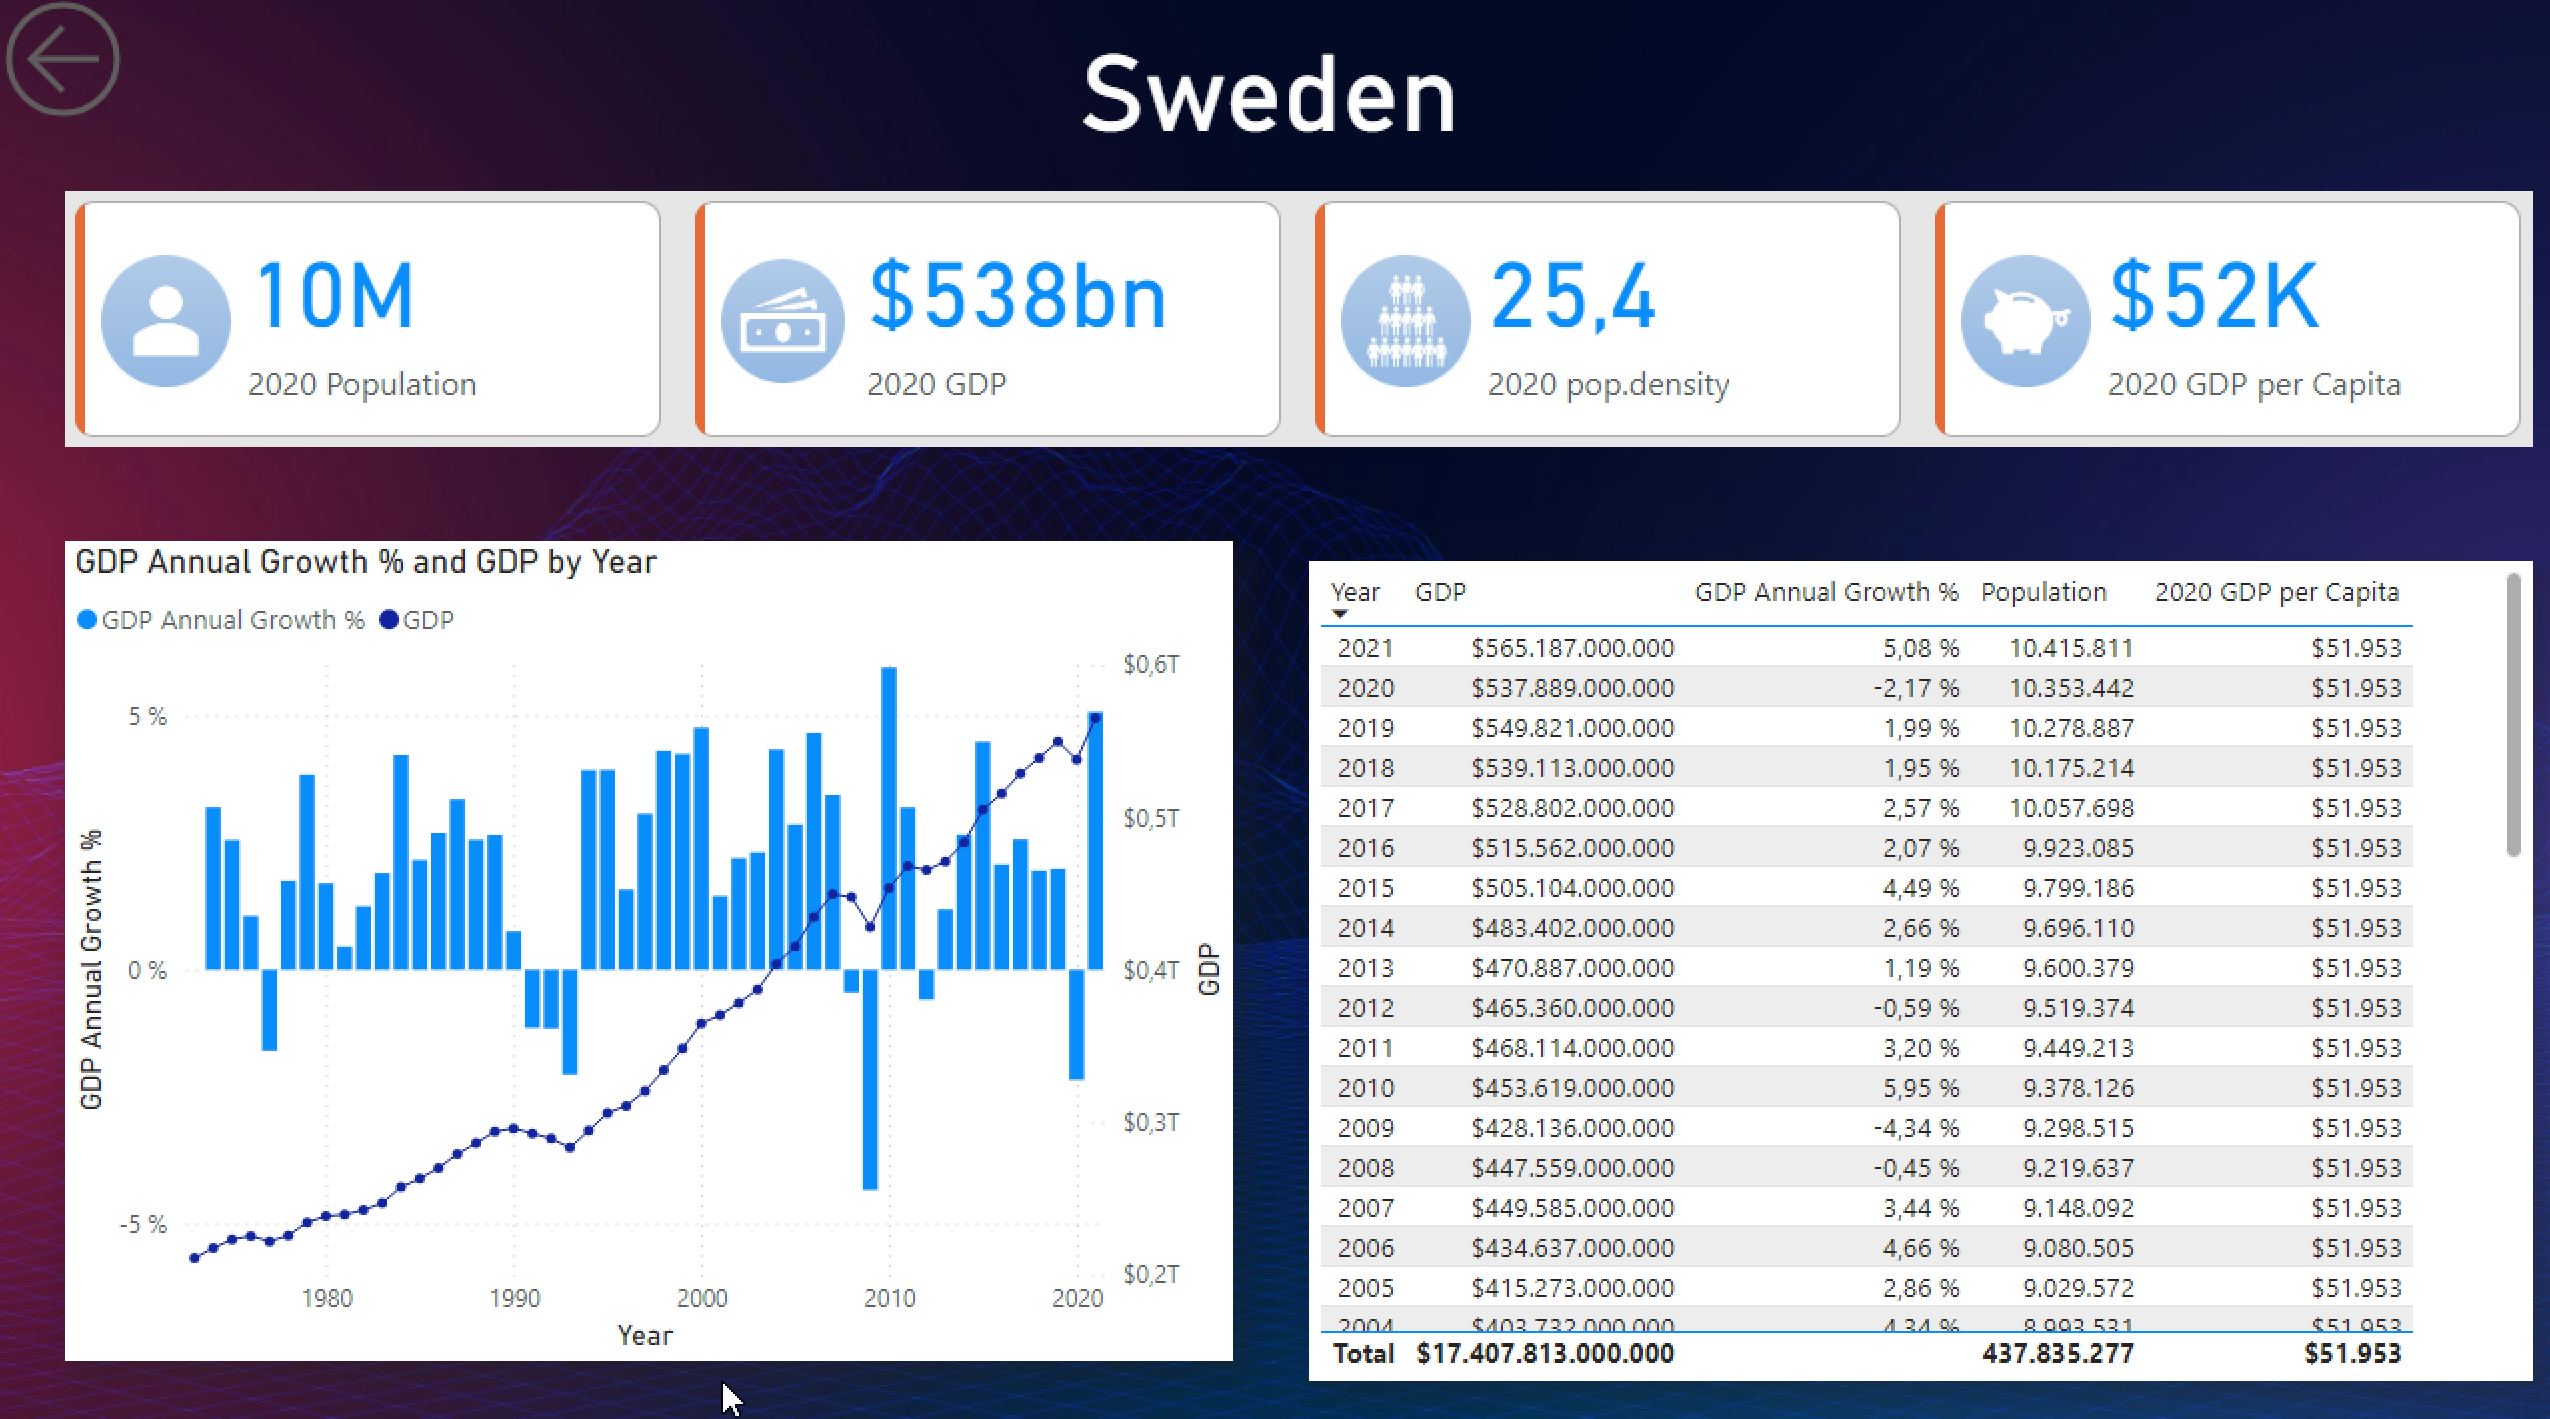

The page's visual inventory and layout, read from the dashboard file:
{"tool":"powerbi","page":{"name":"Country Details","canvas":[1280,720],"ordinal":1},"visuals":[{"type":"actionButton","box":[0,0,111.2,72.2],"z":0},{"type":"tableEx","fields":{"Values":["Indicators.Year","_Measures.GDP","_Measures.GDP Annual Growth %","_Measures.Population","_Measures.2020 GDP per Capita"]},"box":[658.6,287.1,612.9,410],"z":1000},{"type":"lineStackedColumnComboChart","fields":{"Category":["Indicators.Year"],"Y2":["_Measures.GDP"],"Y":["_Measures.GDP Annual Growth %"]},"box":[37.1,277.1,584.3,410],"z":2000},{"type":"card","fields":{"Values":["_Measures.selected country"]},"box":[196.9,0,885,90.7],"z":3000},{"type":"cardVisual","fields":{"Data":["_Measures.2020 Population","_Measures.2020 GDP","_Measures.2020 pop.density","_Measures.2020 GDP per Capita"]},"box":[36.7,102.3,1234.4,127.4],"z":4000}]}

Visuals, with their boxes in screenshot pixels (x1, y1, x2, y2), scaled from the page's 1280x720 canvas onto the 2550x1419 screenshot:
actionButton: 0,0,222,142
tableEx - Indicators.Year x _Measures.GDP: 1312,566,2533,1374
lineStackedColumnComboChart - Indicators.Year x _Measures.GDP: 74,546,1238,1354
card - _Measures.selected country: 392,0,2155,179
cardVisual - _Measures.2020 Population x _Measures.2020 GDP: 73,202,2532,453
